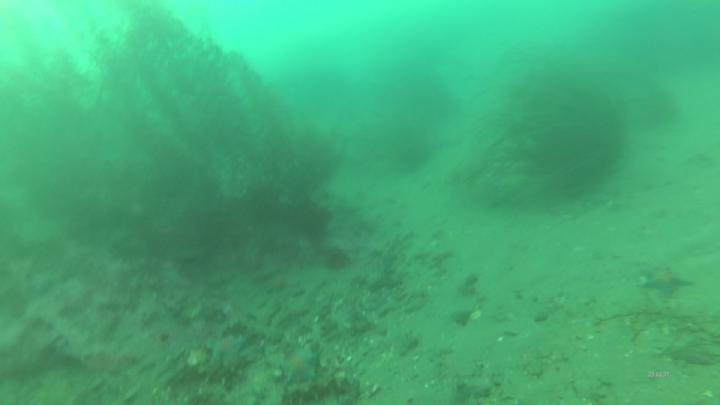starfish: (202, 330, 256, 370), (646, 263, 694, 303), (283, 347, 324, 387)
waterweeds: (1, 1, 321, 230), (468, 48, 625, 209)
